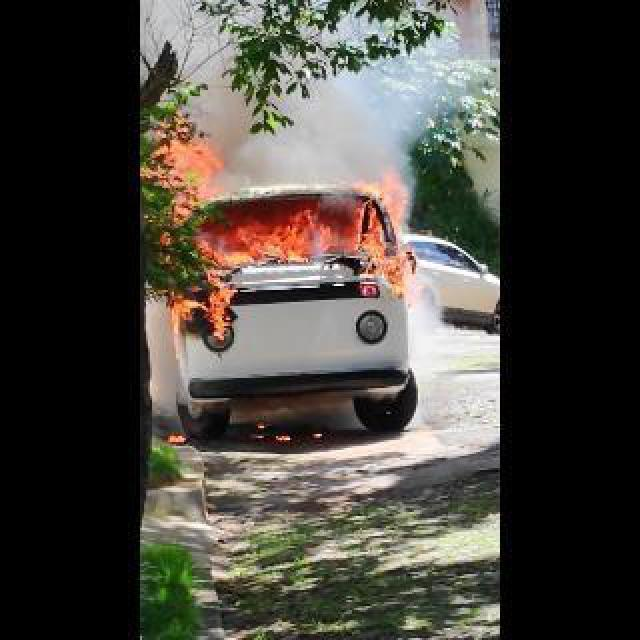Fire: (198, 166, 410, 296), (142, 120, 222, 206), (168, 278, 234, 344), (168, 434, 186, 442), (276, 436, 292, 440)
